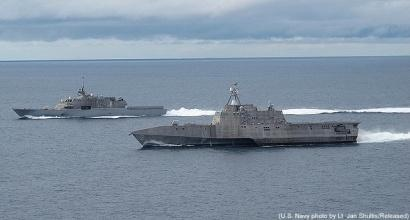warship: (130, 81, 365, 150), (16, 75, 172, 120)
